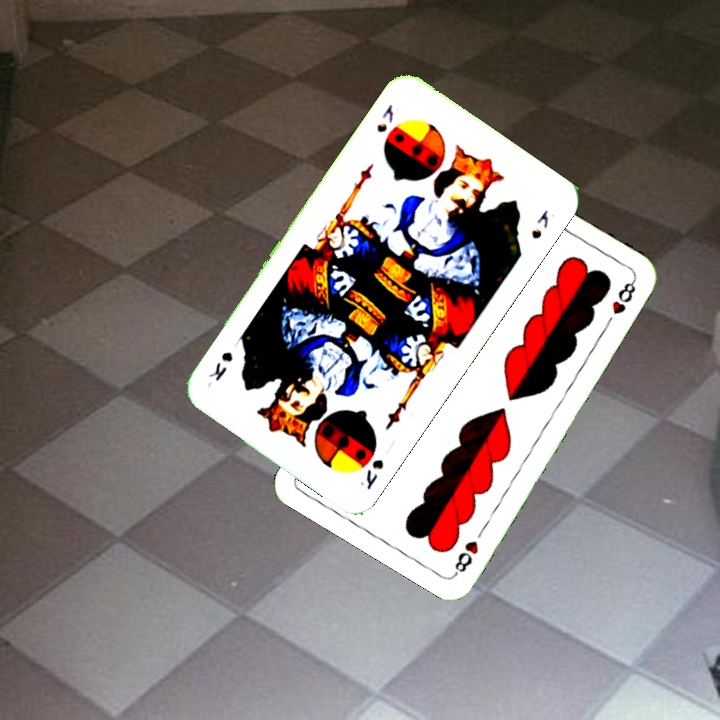H8: (450, 536, 481, 578)
SK: (356, 455, 387, 493), (372, 100, 397, 136)
